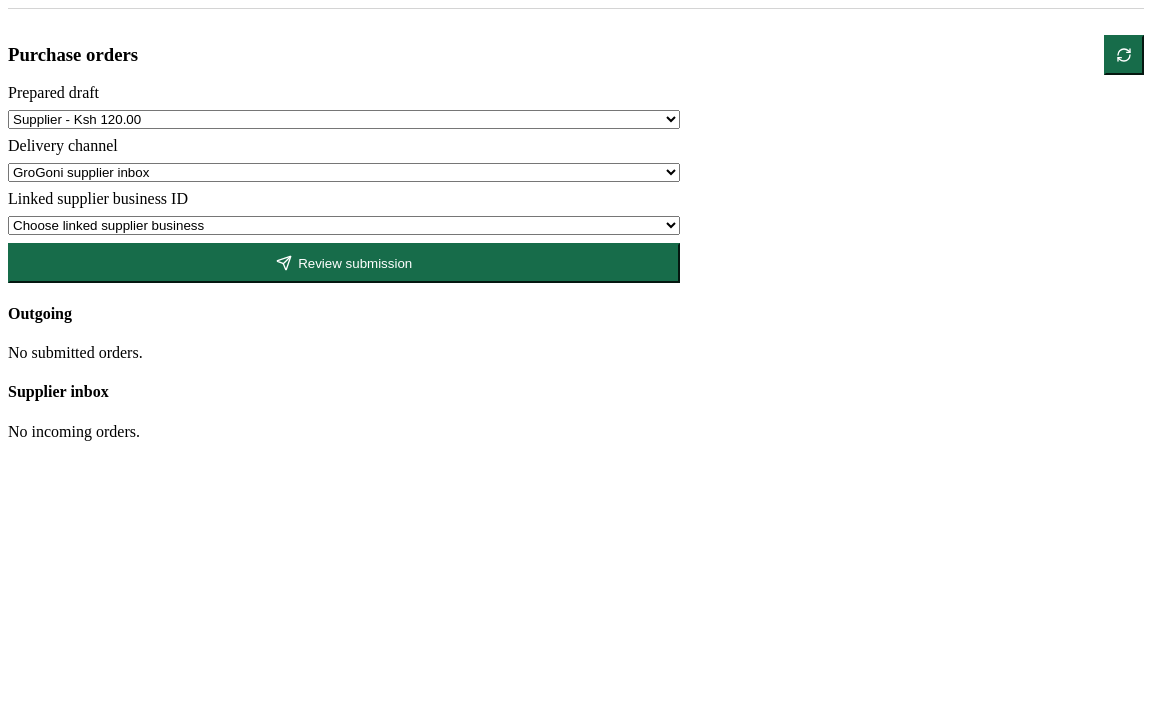
Test: purchase order exact review › shows unavailable external channels and reviews exact draft, channel and recipient before confirmation
This screenshot has width=1152, height=720.
Select "Supplier - Ksh 120.00" in the dropdown labelled "Prepared draft" at (344, 120), box [8,110,680,129]
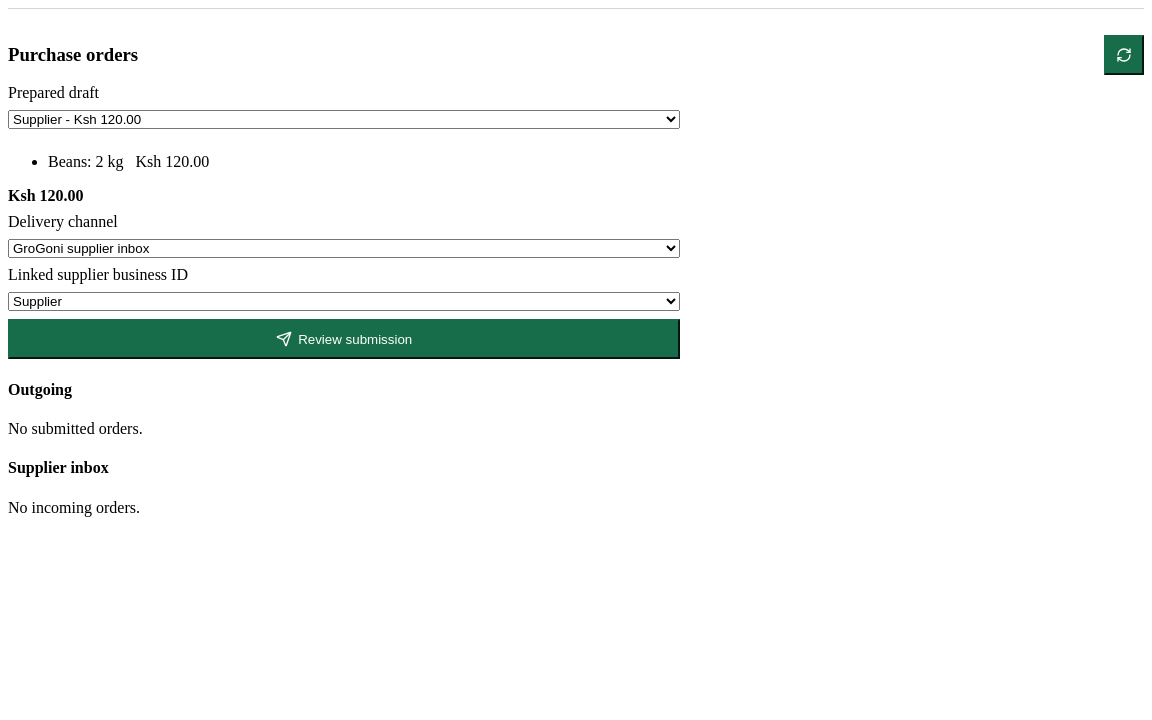
Select "Supplier" in the dropdown labelled "Linked supplier business ID" at (344, 302), box [8,292,680,311]
Submit the form, box [8,84,680,359]
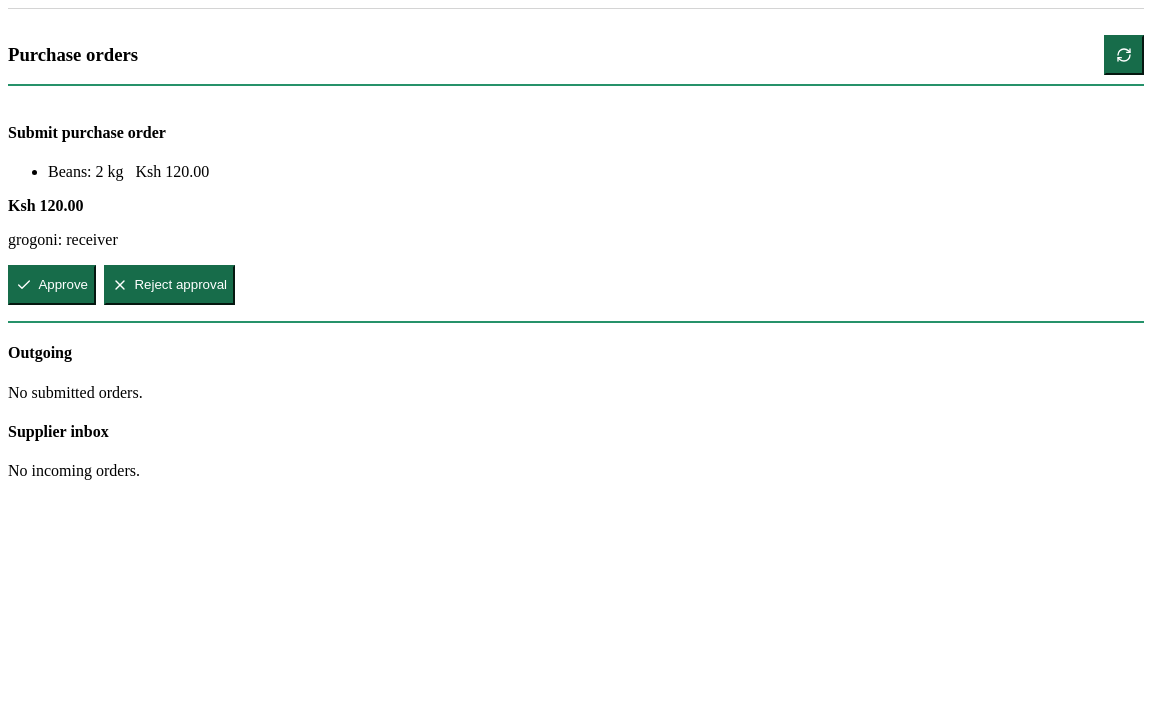
Check: the text "120.00" is shown, box [136,163,209,180]
Check: the element named "Review purchase order approval" shows "receiver", box [66,231,118,248]
